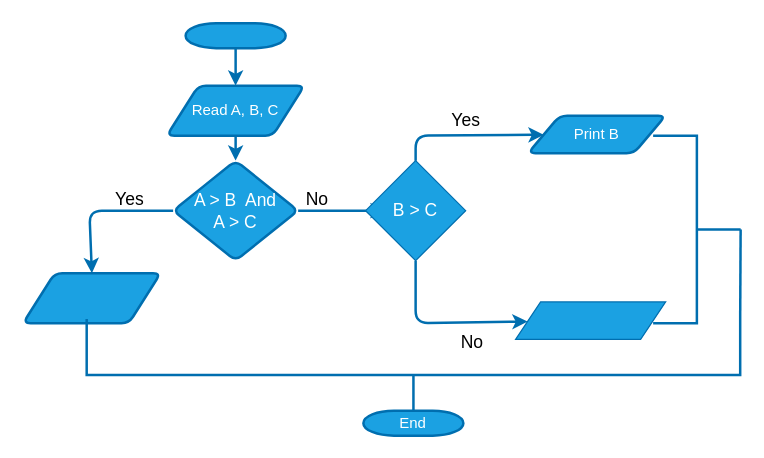
This 764x458 diagram has some shape labels left out. Here are the shapes that lost their labels. From the top down, the box of each, then its label:
(184, 21, 286, 49): start
(21, 271, 161, 324): Print A
(514, 301, 666, 339): Print C
